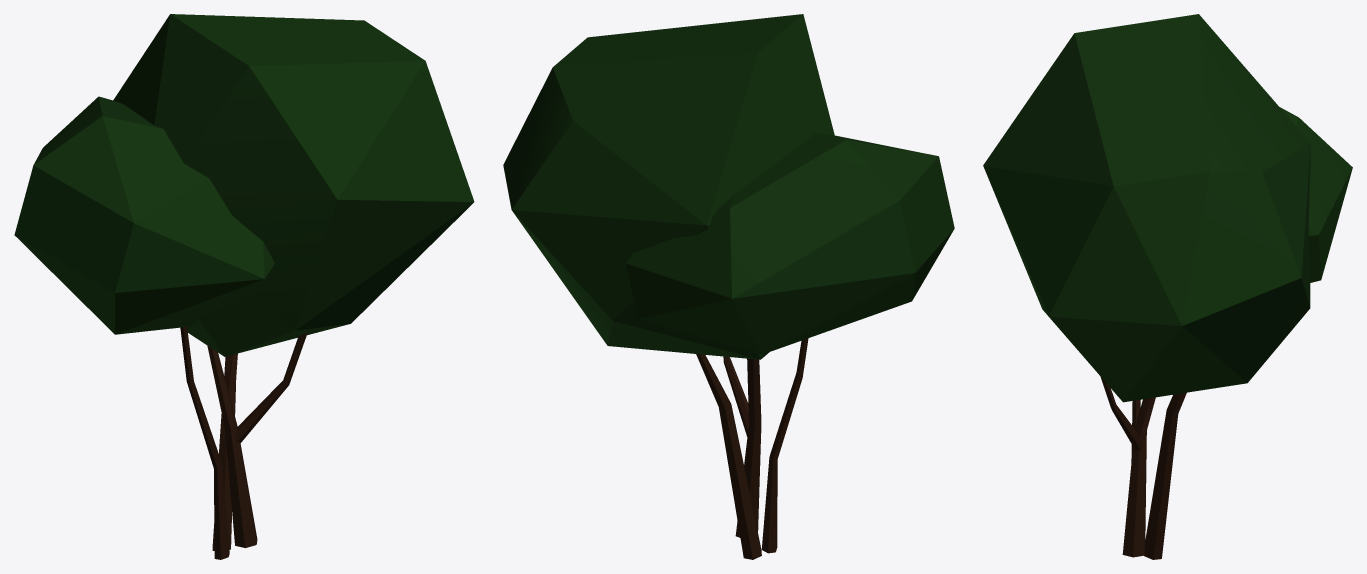
The model's file is lib-tree-bunch-sm.fbx.
The picture shows the model from 3 angles, left to right: view 1: azimuth 30°, elevation 25°; view 2: azimuth 150°, elevation 25°; view 3: azimuth 270°, elevation 25°; orthographic projection.
Parts seen in each view (by area): view 1: pCylinder10; view 2: pCylinder10; view 3: pCylinder10.
Part boxes in pixels (left/top/right/bottom): pCylinder10: left=14, top=14, right=474, bottom=559; pCylinder10: left=503, top=14, right=954, bottom=559; pCylinder10: left=983, top=14, right=1352, bottom=559.
Bounding box in the file's own units: 7.65 × 9.18 × 5.82.
